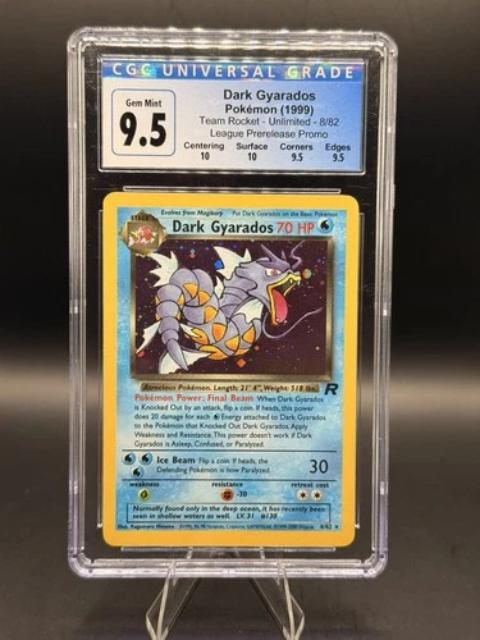Card: (98, 187, 362, 551)
Name: (168, 218, 278, 239)
